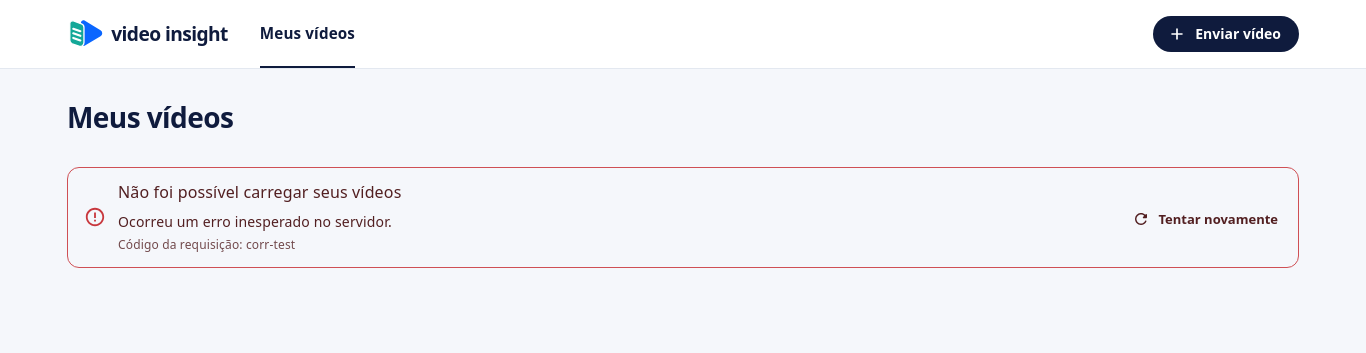
Test case: Meus vídeos › permite tentar de novo depois de um erro
Click the button "Tentar novamente". click: (1206, 219)
box: [1122,204,1290,235]
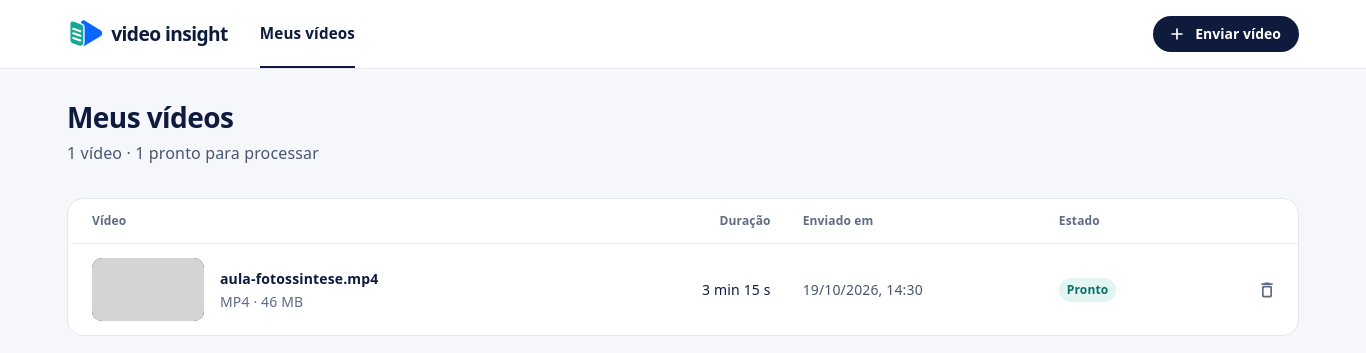
Now the link "aula-fotossintese.mp4" is shown, box [220,269,378,288]
